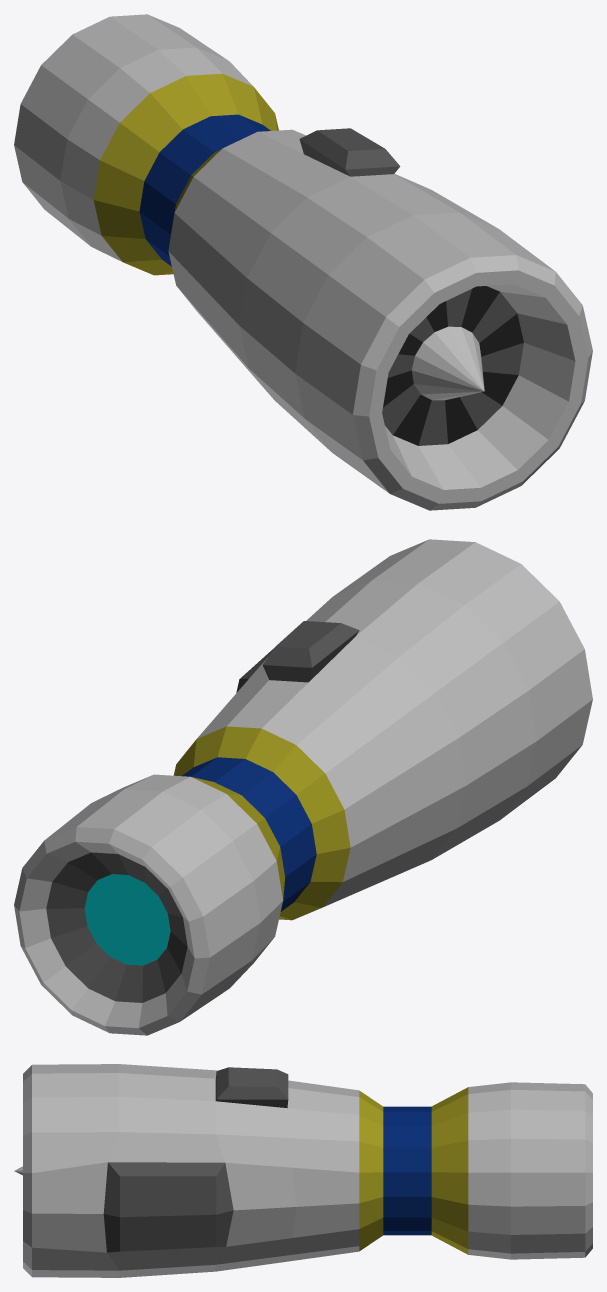
File: Thruster.fbx
3 renders of one model, top to bottom at view 1: azimuth 30°, elevation 25°; view 2: azimuth 150°, elevation 25°; view 3: azimuth 270°, elevation 25°, orthographic. The views are drawn at different scales.
Parts seen in each view (by area): view 1: Engine; view 2: Engine; view 3: Engine.
Part boxes in pixels (x1=…): Engine: x1=14, y1=14, x2=592, y2=510; Engine: x1=14, y1=539, x2=592, y2=1035; Engine: x1=14, y1=1064, x2=592, y2=1277.
Size of the model in its own units: 48.04 by 48.2 by 125.
